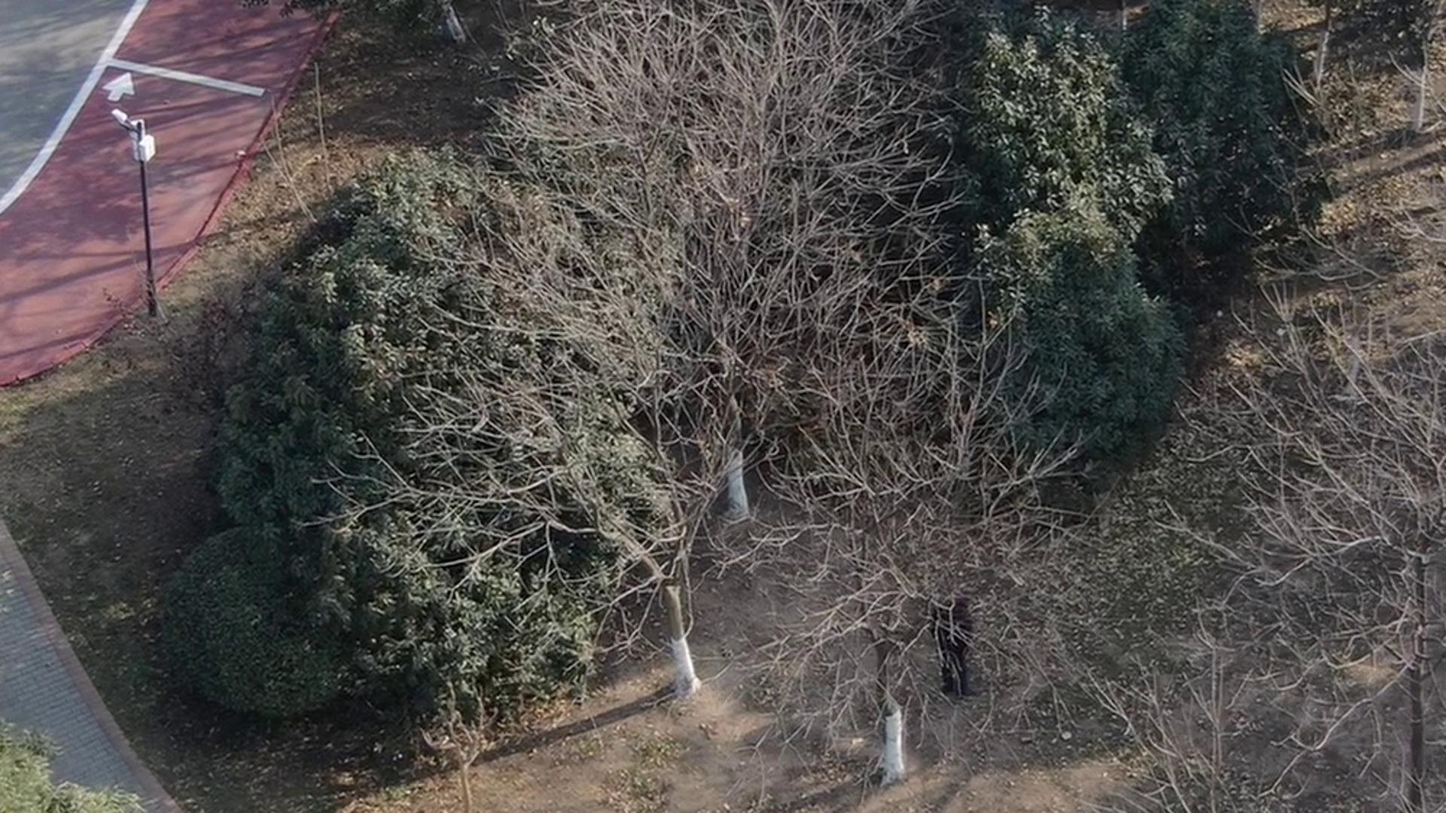human: (904, 582, 955, 697)
